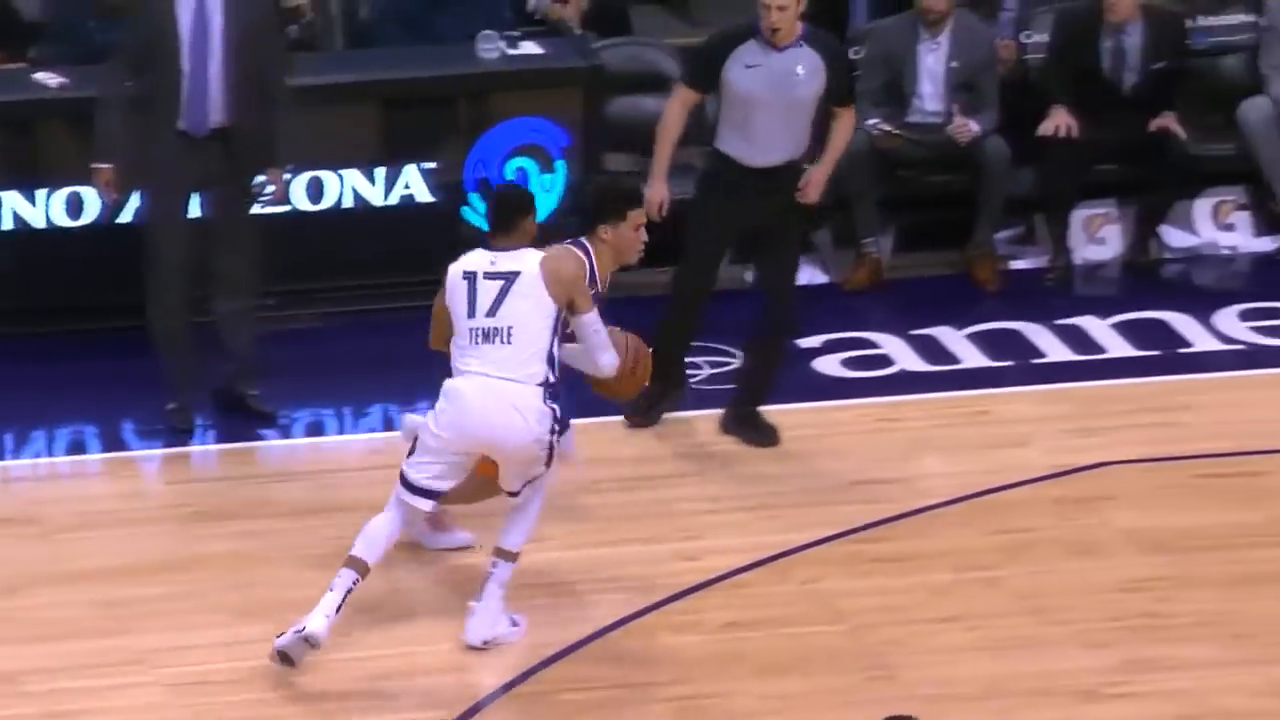ball: (595, 323, 652, 401)
